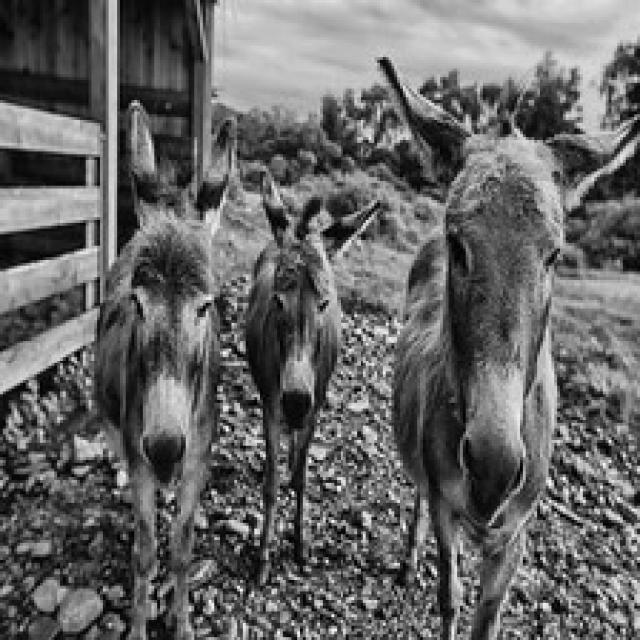Donkey: (374, 54, 637, 637), (92, 97, 237, 637), (243, 165, 380, 586)
